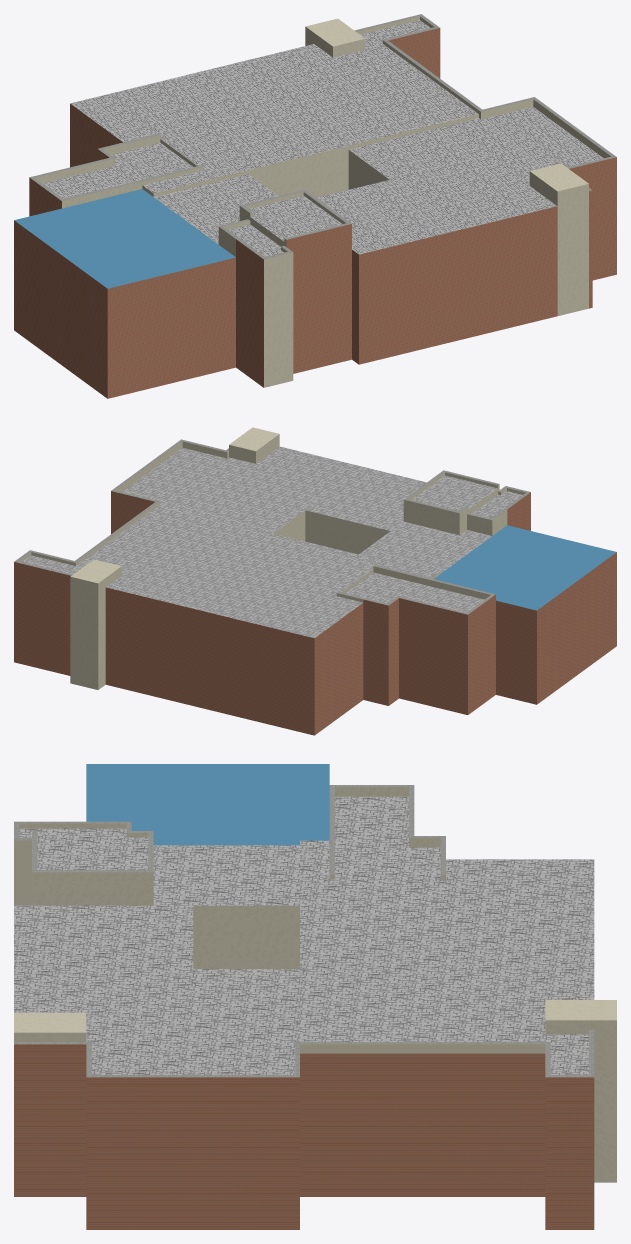
3 views of the same model, one above another, from view 1: azimuth 30°, elevation 25°; view 2: azimuth 150°, elevation 25°; view 3: azimuth 270°, elevation 25° (orthographic). The views are drawn at different scales.
Size of the model in its own units: 72.61 by 18.5 by 57.32.
5 materials, 4 textured.
